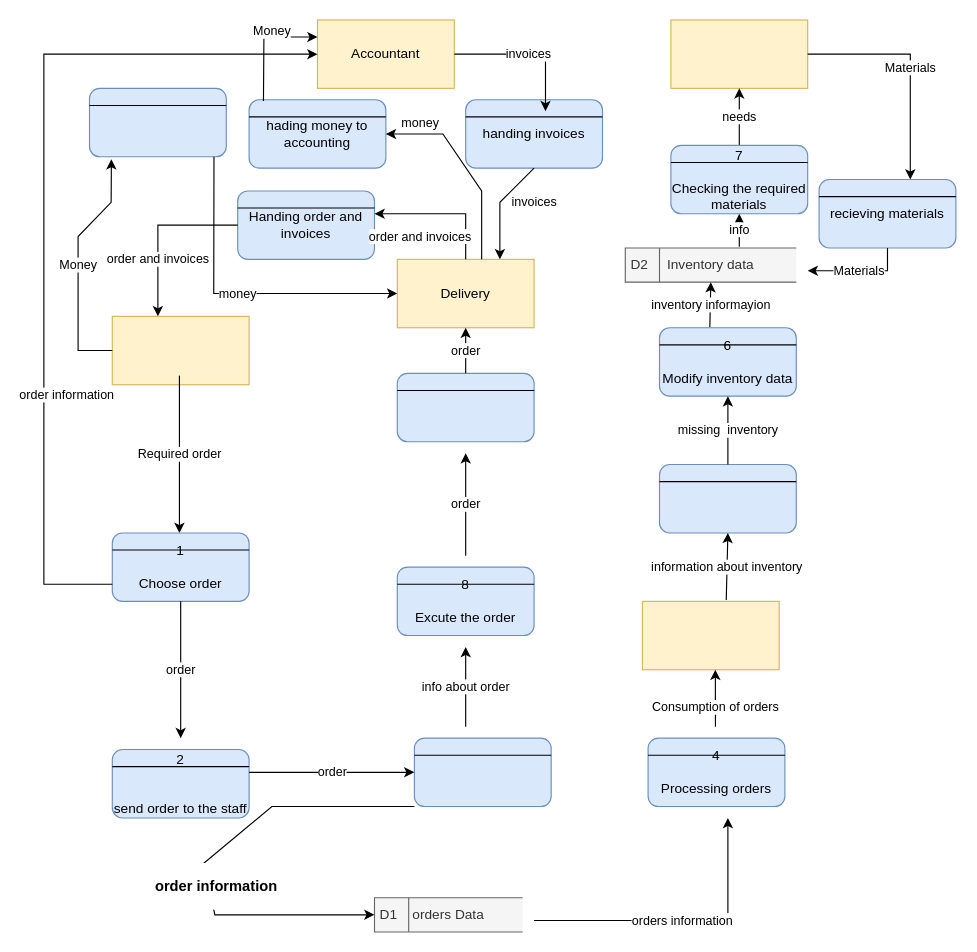
This 977x952 diagram has some shape labels left out. Each missing label, with the box of its shape:
3 check order: (413, 737, 551, 807)
5 Checking for missing inventory: (658, 463, 796, 533)
9 Submit the order to the delivery agent: (396, 372, 534, 442)
Customer: (111, 315, 249, 385)
Inventory system: (641, 600, 779, 670)
Reciving money: (88, 87, 226, 157)
Supplier: (670, 19, 808, 88)
